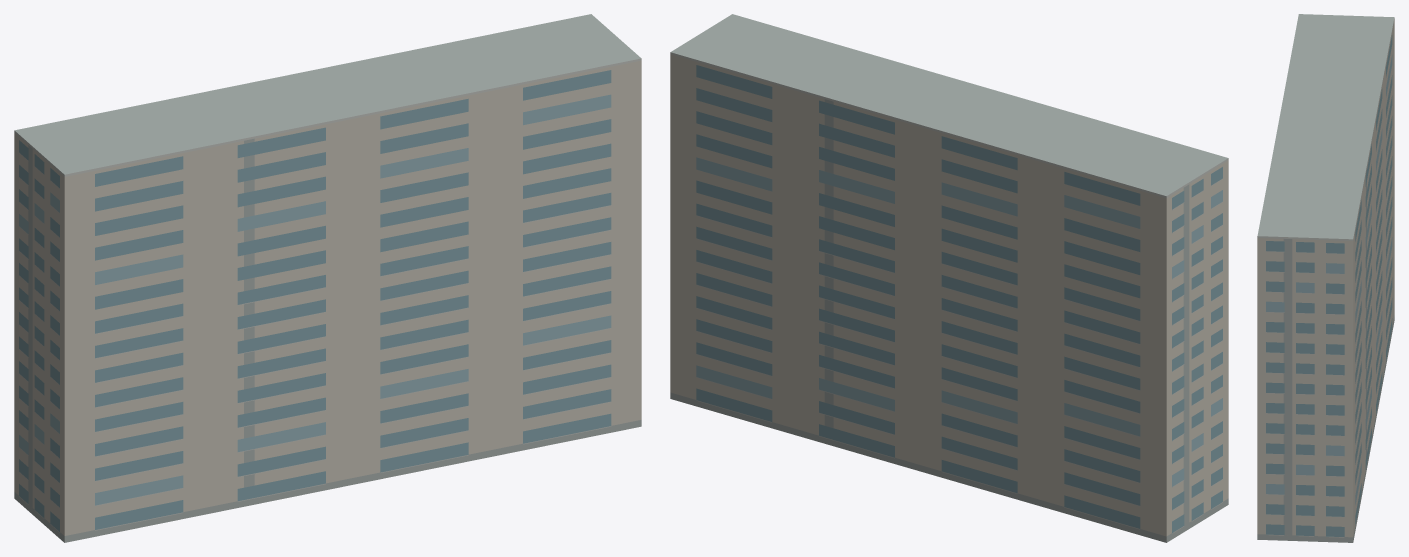
Rendered from residential-20f06bee-0ee4-4db5-8e5e-b6ff17674661.glb.
3 renders of one model, left to right at view 1: azimuth 30°, elevation 25°; view 2: azimuth 150°, elevation 25°; view 3: azimuth 270°, elevation 25°, orthographic. The views are drawn at different scales.
Parts seen in each view (by area): view 1: residential-20f06bee-0ee4-4db5-8e5e-b6ff17674661.tmp; view 2: residential-20f06bee-0ee4-4db5-8e5e-b6ff17674661.tmp; view 3: residential-20f06bee-0ee4-4db5-8e5e-b6ff17674661.tmp.
Boxes of the visible parts, x1,y1,x2,y2 form: residential-20f06bee-0ee4-4db5-8e5e-b6ff17674661.tmp: [14, 14, 641, 542]; residential-20f06bee-0ee4-4db5-8e5e-b6ff17674661.tmp: [670, 14, 1228, 542]; residential-20f06bee-0ee4-4db5-8e5e-b6ff17674661.tmp: [1257, 14, 1394, 542].
Bounding box in the file's own units: 65.24 × 41 × 16.78.
